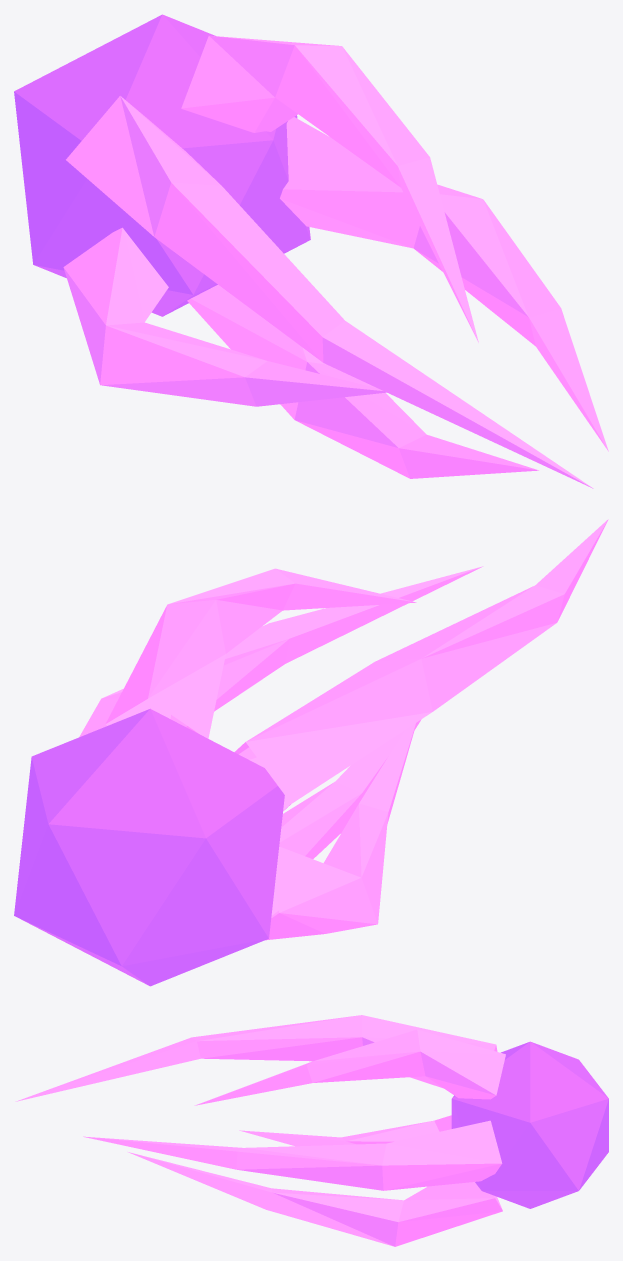
The model's file is shadow_orb.glb.
3 renders of one model, top to bottom at view 1: azimuth 30°, elevation 25°; view 2: azimuth 150°, elevation 25°; view 3: azimuth 270°, elevation 25°, orthographic. The views are drawn at different scales.
Parts seen in each view (by area): view 1: shadow_orb; view 2: shadow_orb; view 3: shadow_orb.
Part boxes in pixels (box(x1,y1,x2,y2)): shadow_orb: box(14, 14, 608, 488); shadow_orb: box(14, 519, 608, 986); shadow_orb: box(15, 1015, 608, 1246).
Size of the model in its own units: 0.3342 by 0.3477 by 0.9011.
